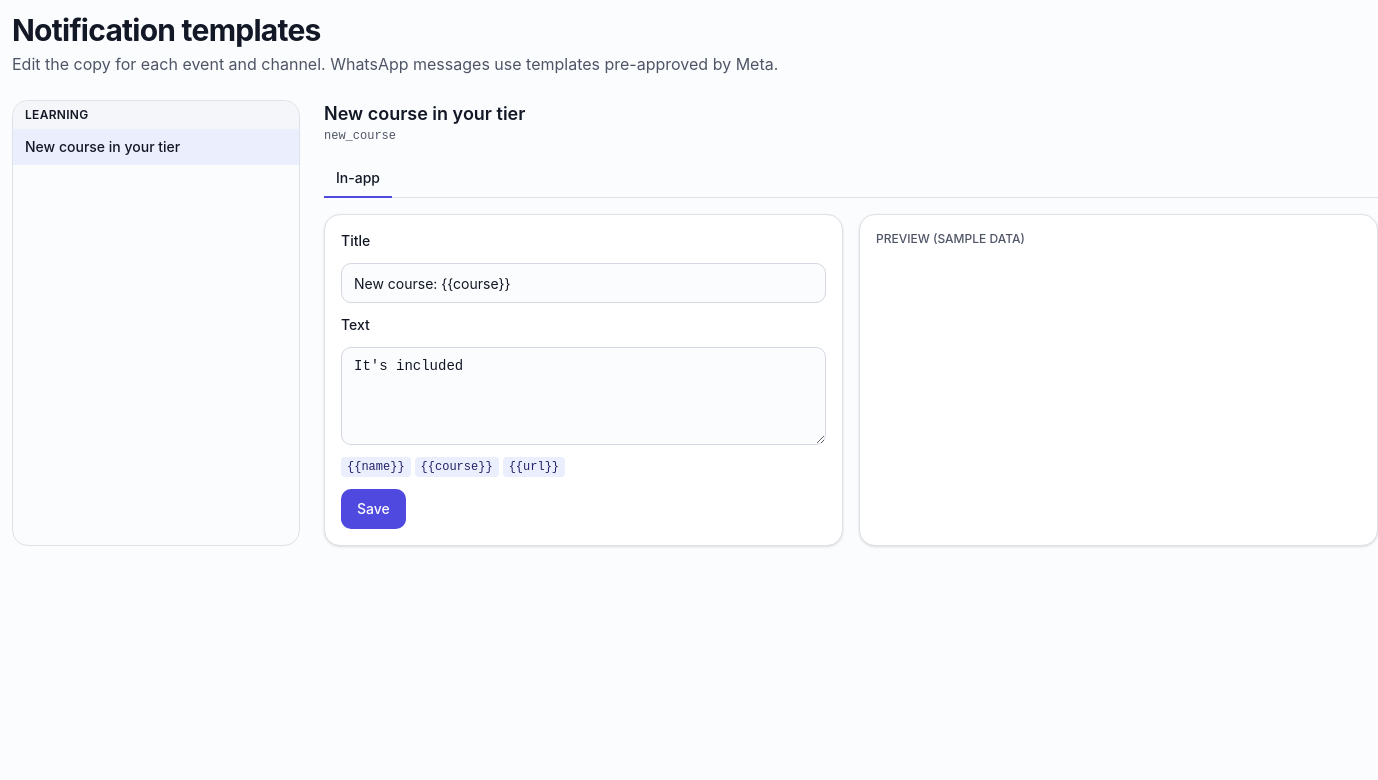
template manager › previews with sample data and blocks unknown variables
Expected: the field showing "New course: {{course}}" is shown, x1=341 y1=263 x2=826 y2=303
Click the button "{{course}}" at (457, 467), box x1=415 y1=457 x2=499 y2=477
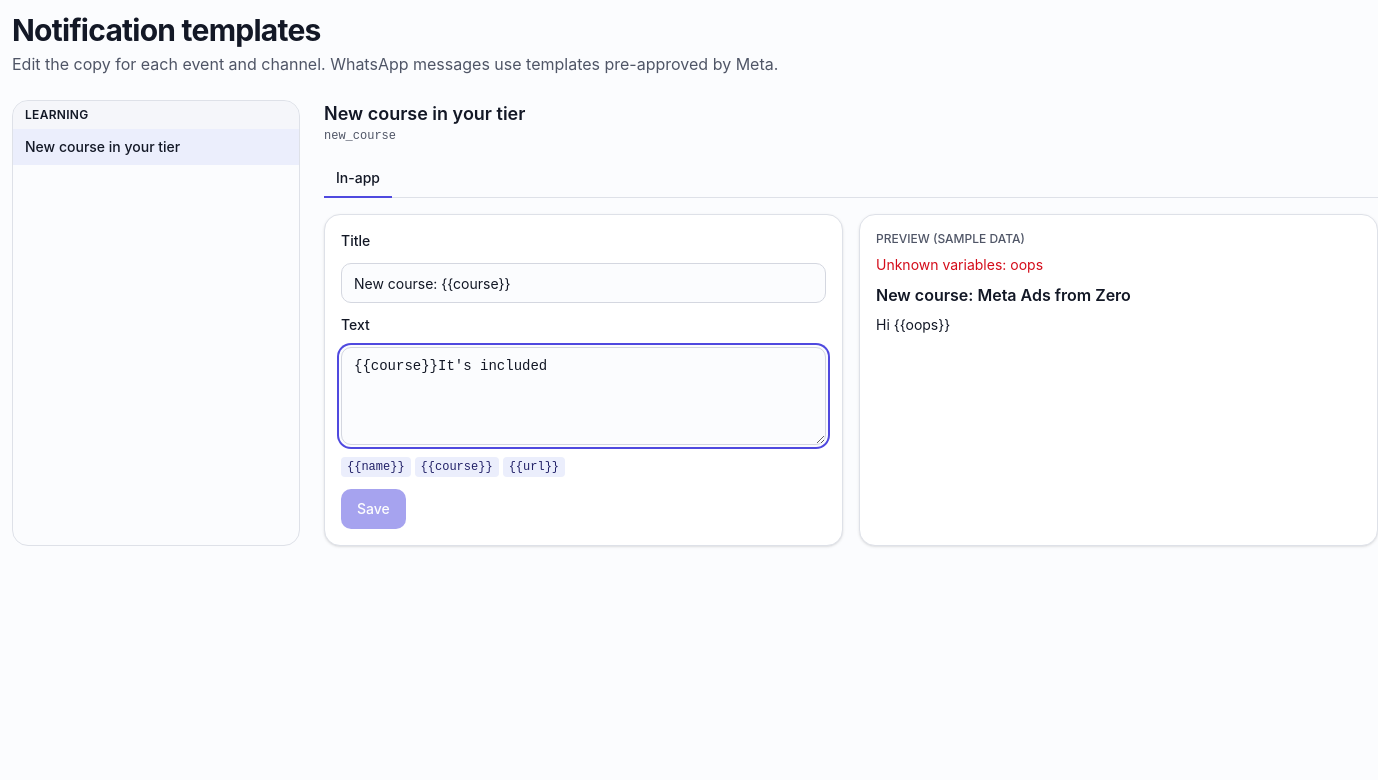
Expected: the text "Unknown variables: oops" is shown, x1=876 y1=256 x2=1043 y2=273
Expected: the button "Save" is disabled, x1=341 y1=489 x2=406 y2=529
